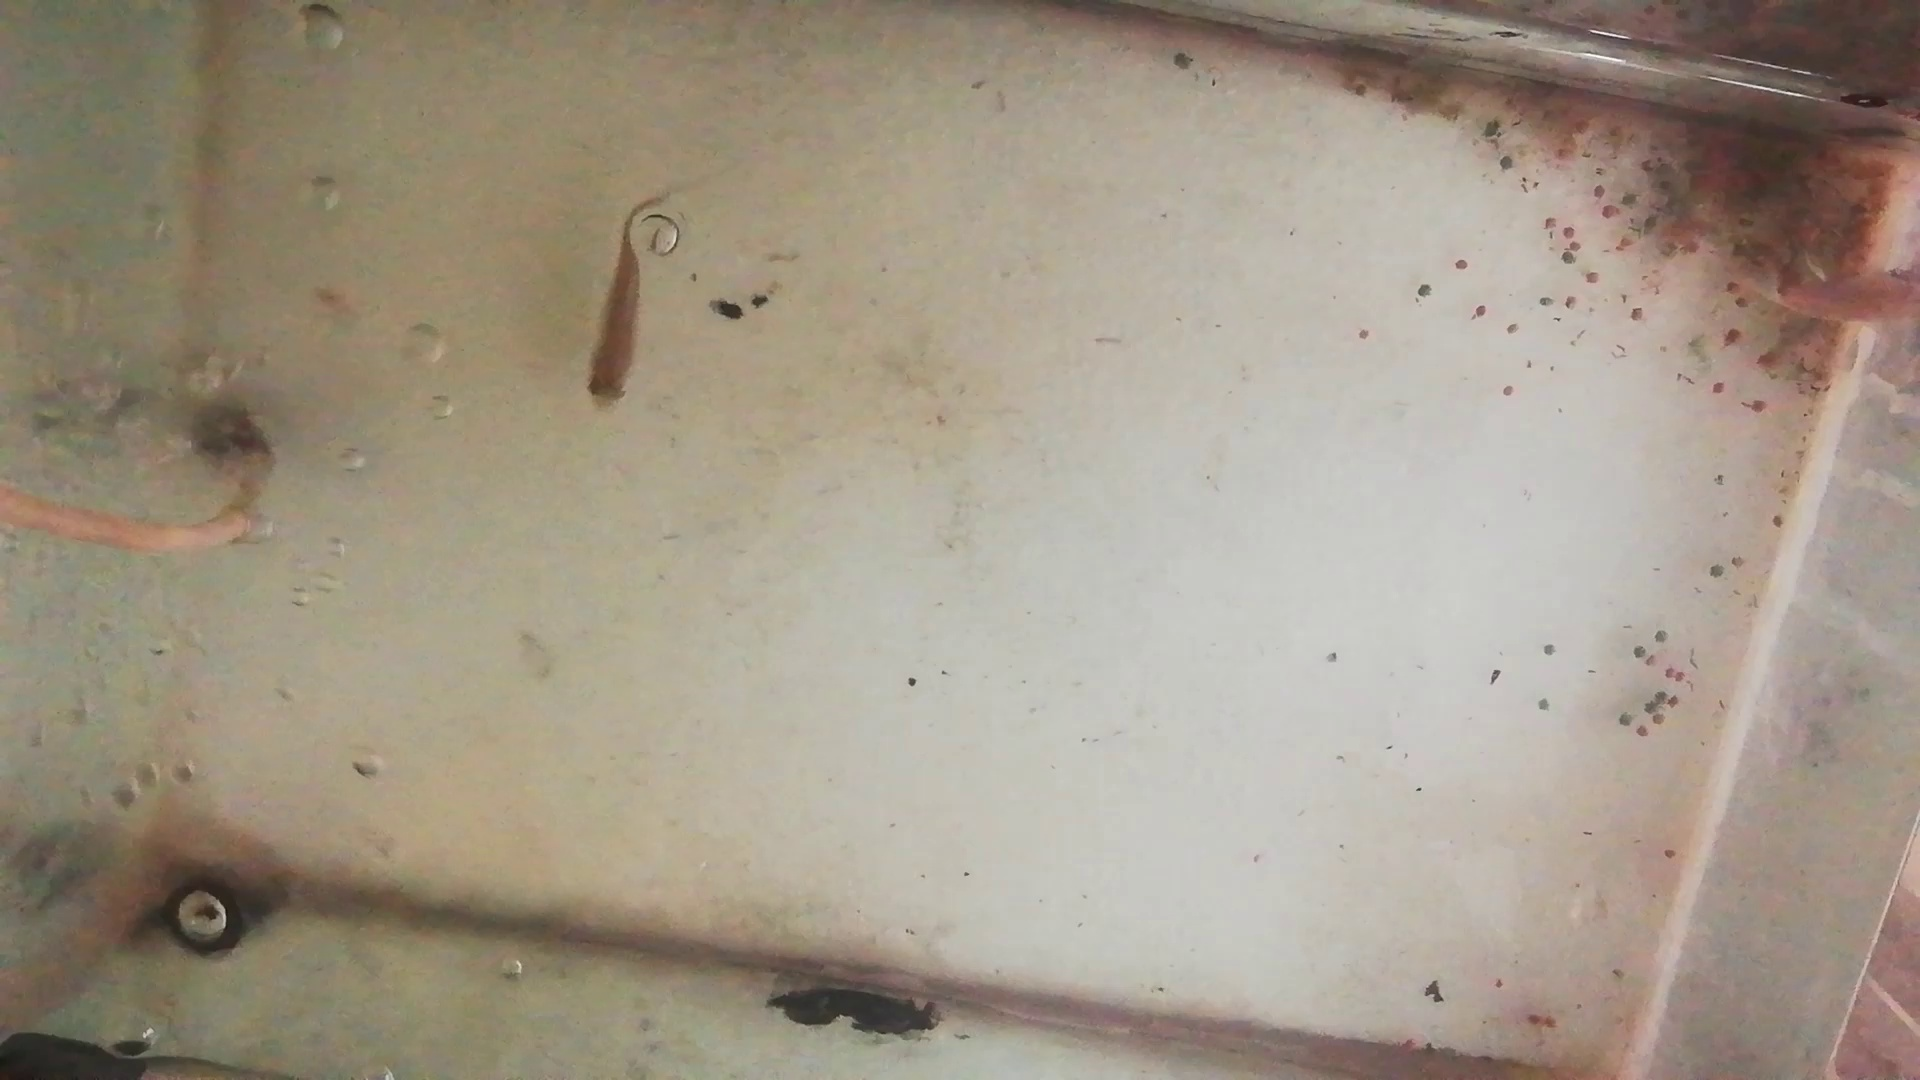fish: (585, 210, 646, 409), (1774, 252, 1917, 326)
